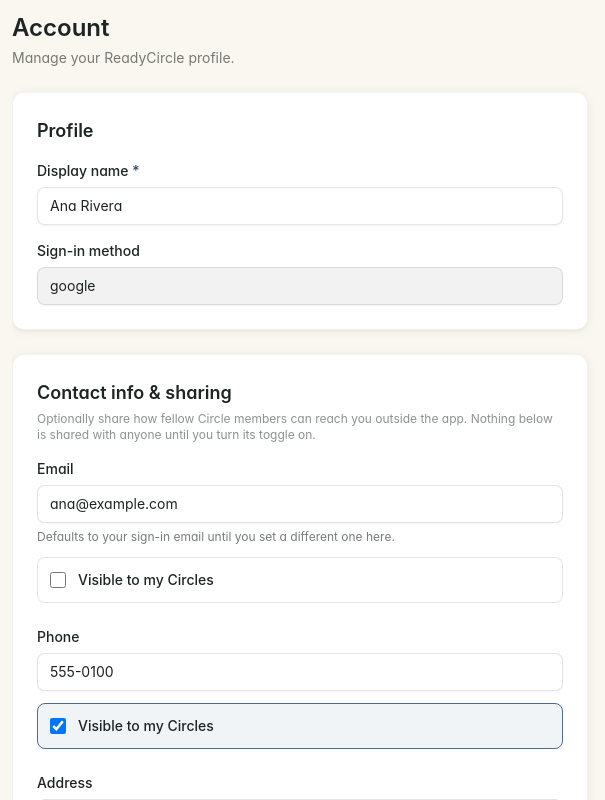
it: AccountPage › clears a visibility toggle when its field is emptied
expect the checkbox labelled "Visible to my Circles" below "Phone" is checked: met, box [50, 718, 66, 734]
Clear the field labelled "Phone" at [300, 672], box [37, 653, 563, 691]
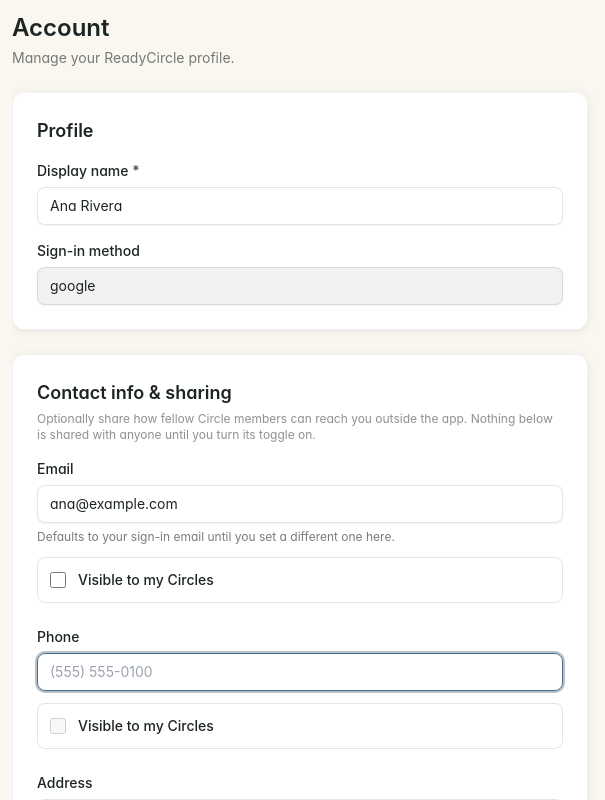
expect the checkbox labelled "Visible to my Circles" below "Phone" is not checked: met, box [50, 718, 66, 734]
expect the checkbox labelled "Visible to my Circles" below "Phone" is disabled: met, box [50, 718, 66, 734]
